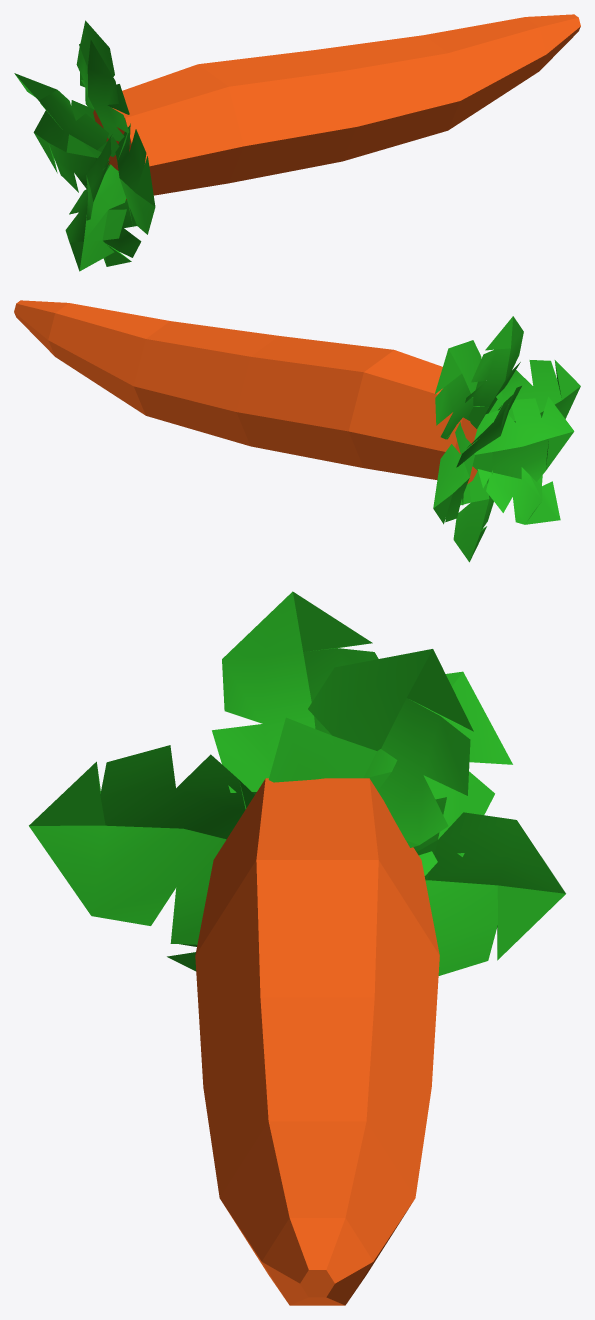
Rendered from Carrot.fbx.
3 views of the same model, one above another, from view 1: azimuth 30°, elevation 25°; view 2: azimuth 150°, elevation 25°; view 3: azimuth 270°, elevation 25° (orthographic). The views are drawn at different scales.
Parts seen in each view (by area): view 1: Carrot, Carrot.001; view 2: Carrot, Carrot.001; view 3: Carrot, Carrot.001.
Boxes of the visible parts, <box> form: Carrot: <box>14,20,356,271</box>; Carrot.001: <box>314,14,580,161</box>; Carrot: <box>236,316,580,562</box>; Carrot.001: <box>14,300,278,446</box>; Carrot: <box>29,591,565,1086</box>; Carrot.001: <box>203,997,431,1305</box>.
Bounding box in the file's own units: 409 × 182 × 182.
